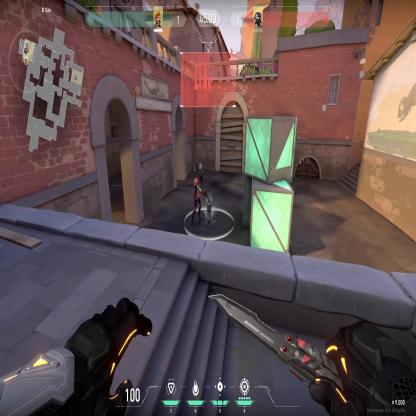enemy: (191, 174, 203, 227)
